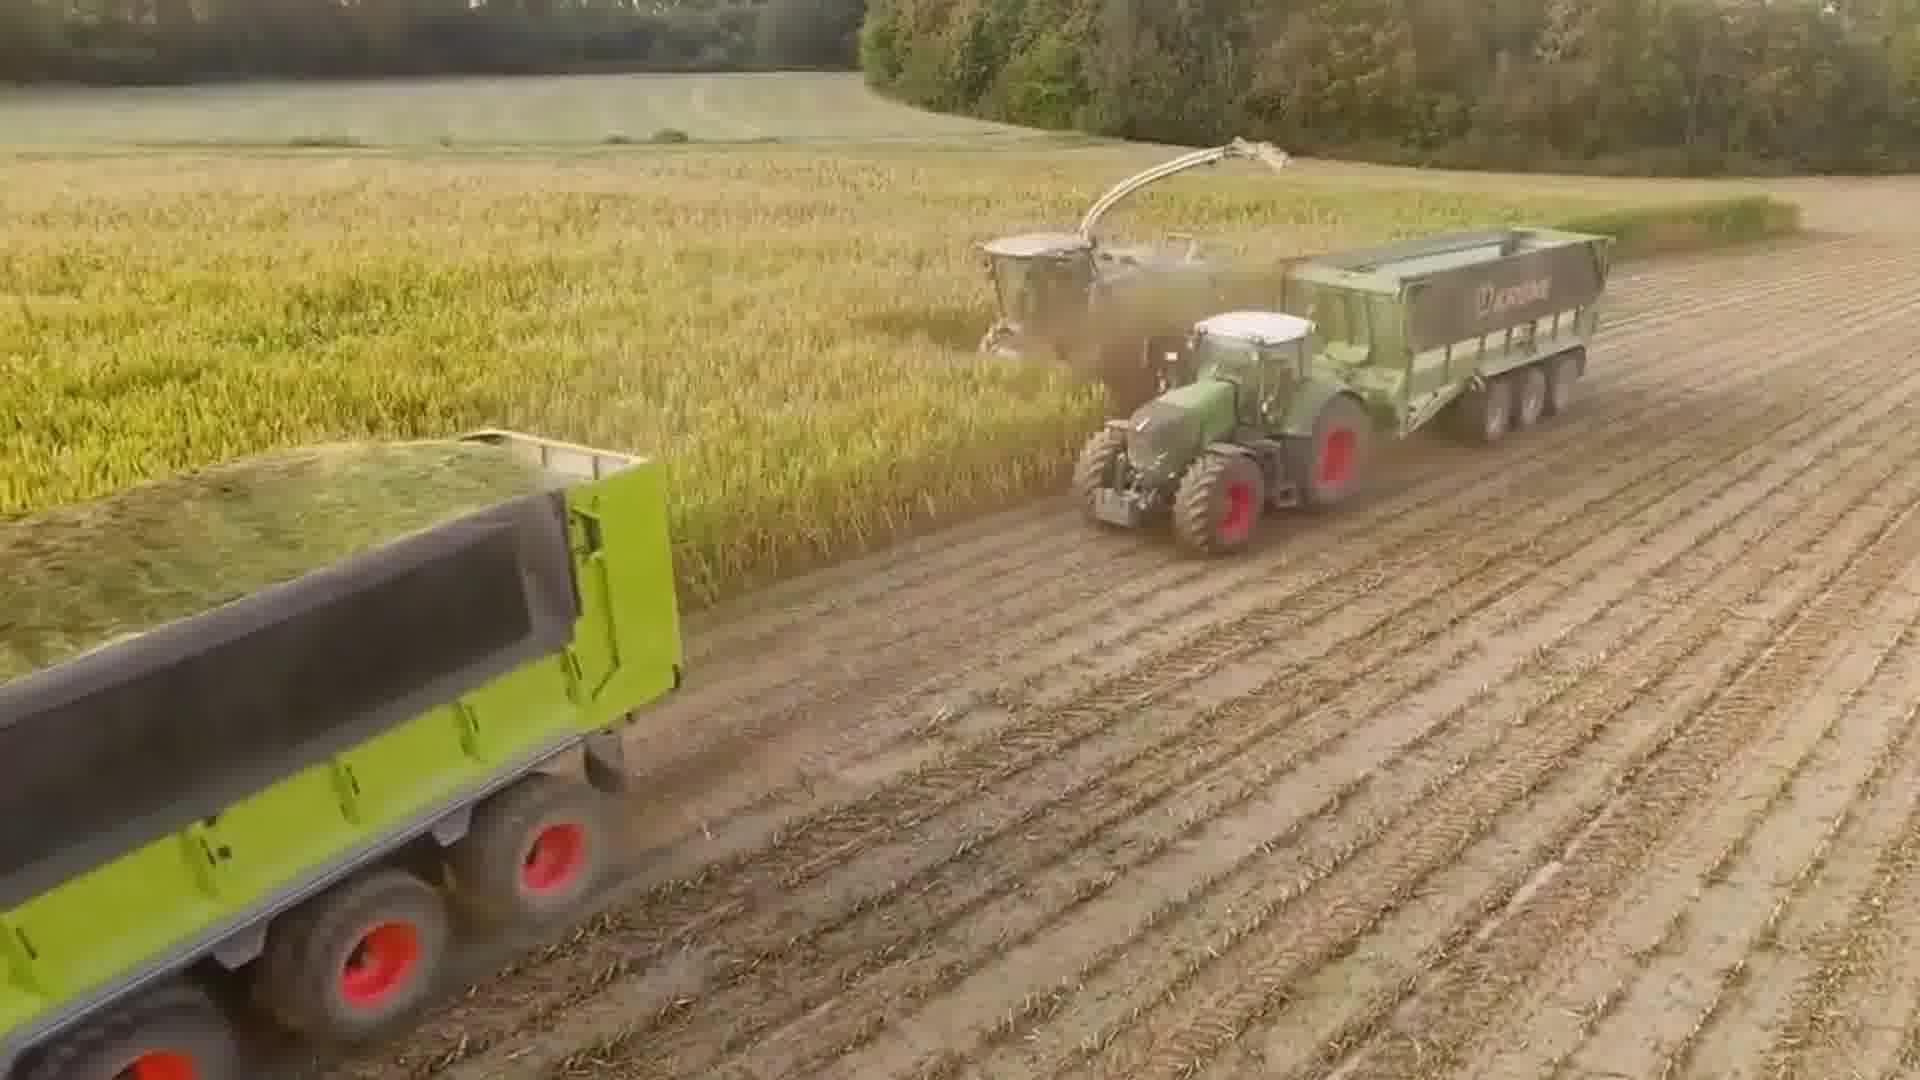combine harvester: (975, 133, 1300, 406)
tractor: (1067, 302, 1383, 570)
trailer: (0, 422, 692, 1080), (1275, 220, 1626, 447)
